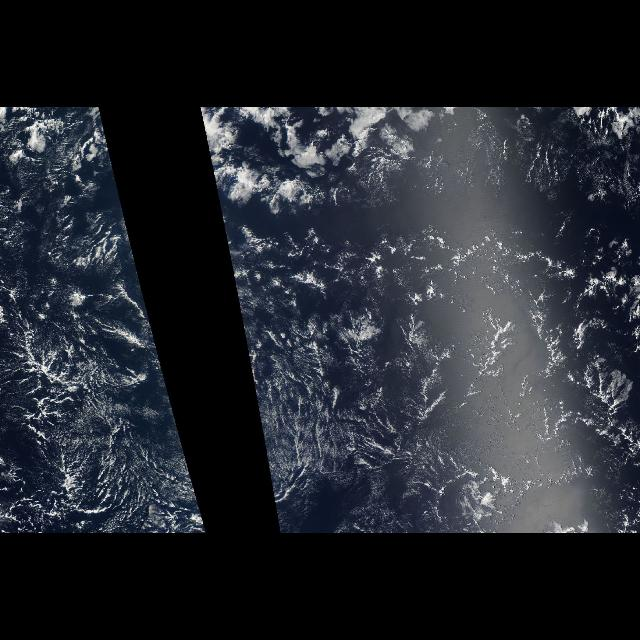Fish: (475, 308, 639, 452), (17, 335, 105, 527)
Flower: (204, 108, 358, 212)
Sugar: (247, 341, 546, 533), (11, 342, 207, 534), (415, 133, 639, 207)
